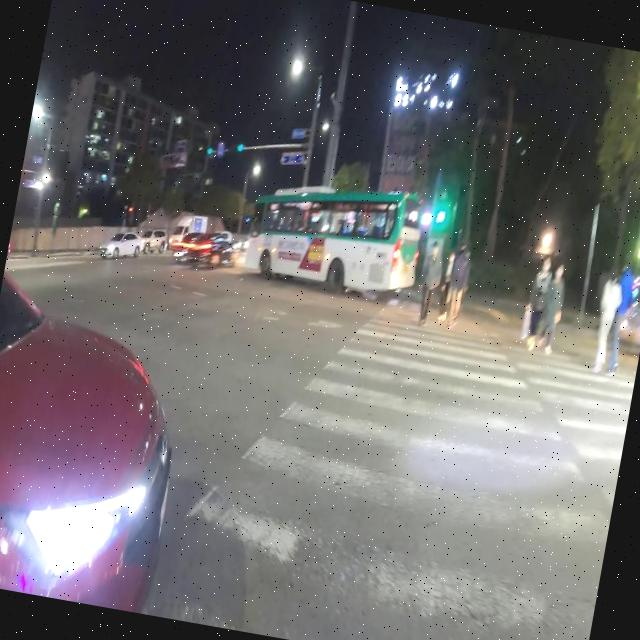crosswalk: (134, 291, 634, 640)
